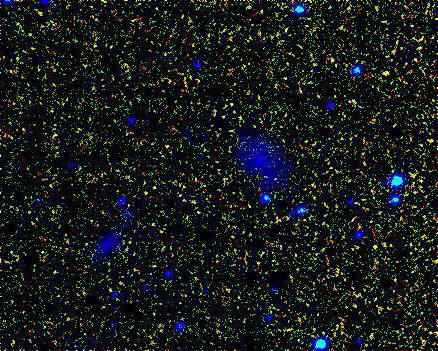star: (372, 60, 402, 90)
